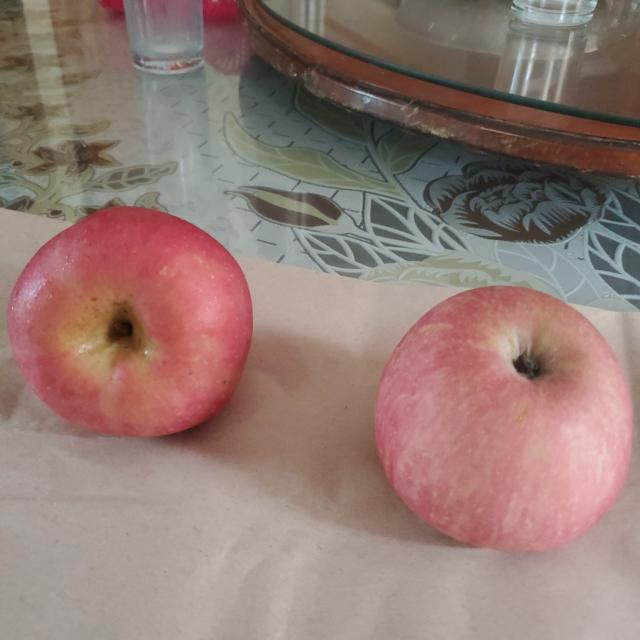apple: (381, 288, 638, 552), (10, 204, 254, 433)
